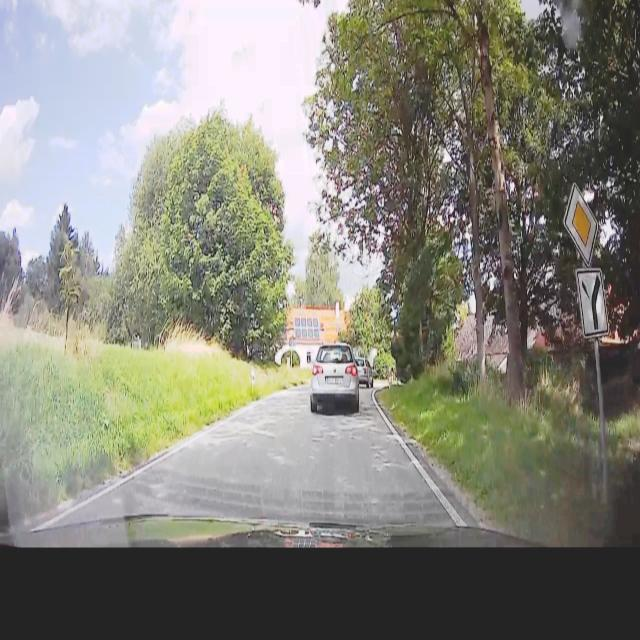Priority road: (561, 175, 599, 269)
